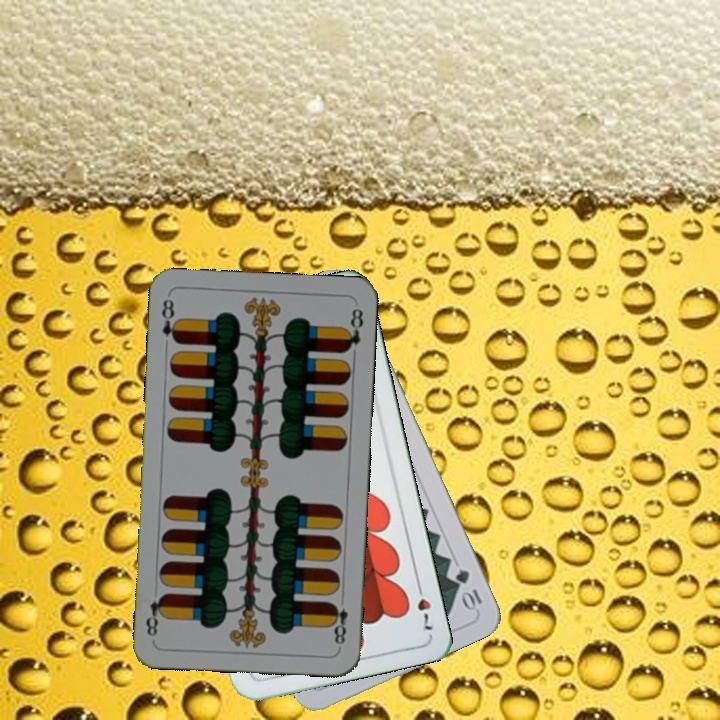E8: (327, 591, 351, 650), (157, 295, 182, 347)
G10: (451, 565, 485, 613)
H7: (412, 577, 435, 633)
